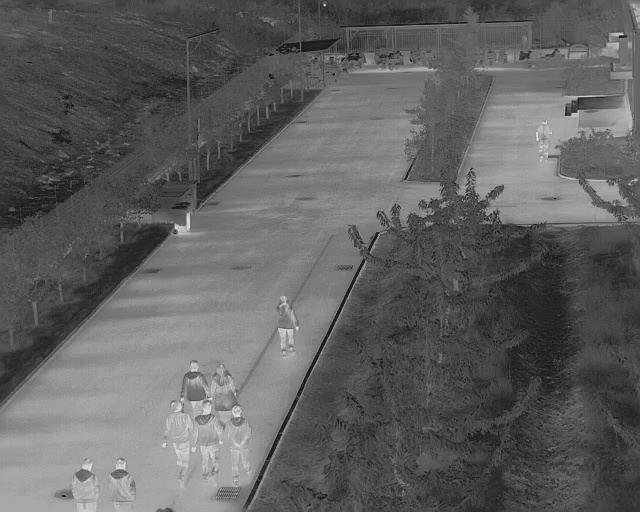person: (161, 398, 192, 488), (191, 400, 223, 484), (225, 405, 254, 488), (71, 457, 101, 512), (107, 457, 137, 512), (275, 293, 300, 358), (210, 362, 240, 416), (179, 359, 212, 404), (534, 118, 554, 165)
